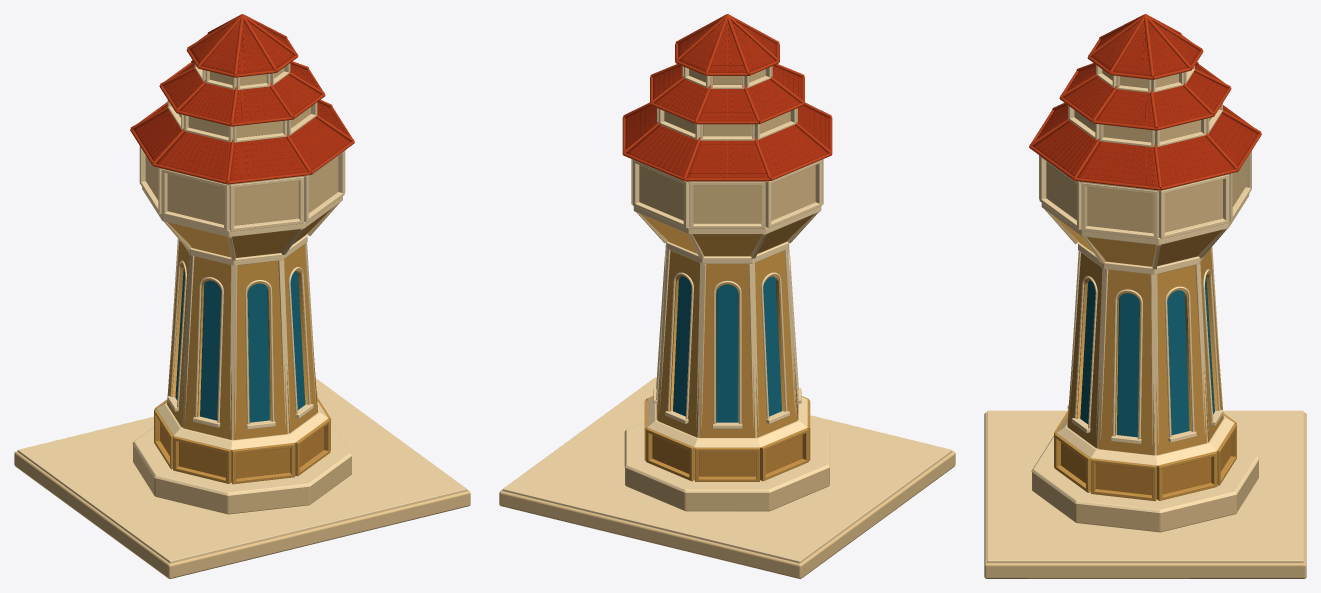
File: phan-thiet.glb
3 views of the same model, side by side, from view 1: azimuth 30°, elevation 25°; view 2: azimuth 150°, elevation 25°; view 3: azimuth 270°, elevation 25° (orthographic). The views are drawn at different scales.
Parts seen in each view (by area): view 1: THAP_NUOC_PHAN_THIET_V2; view 2: THAP_NUOC_PHAN_THIET_V2; view 3: THAP_NUOC_PHAN_THIET_V2.
Boxes of the visible parts, x1,y1,x2,y2 form: THAP_NUOC_PHAN_THIET_V2: [14, 14, 470, 578]; THAP_NUOC_PHAN_THIET_V2: [499, 14, 955, 578]; THAP_NUOC_PHAN_THIET_V2: [984, 14, 1306, 578].
Size of the model in its own units: 1.26 by 1.87 by 1.12.
